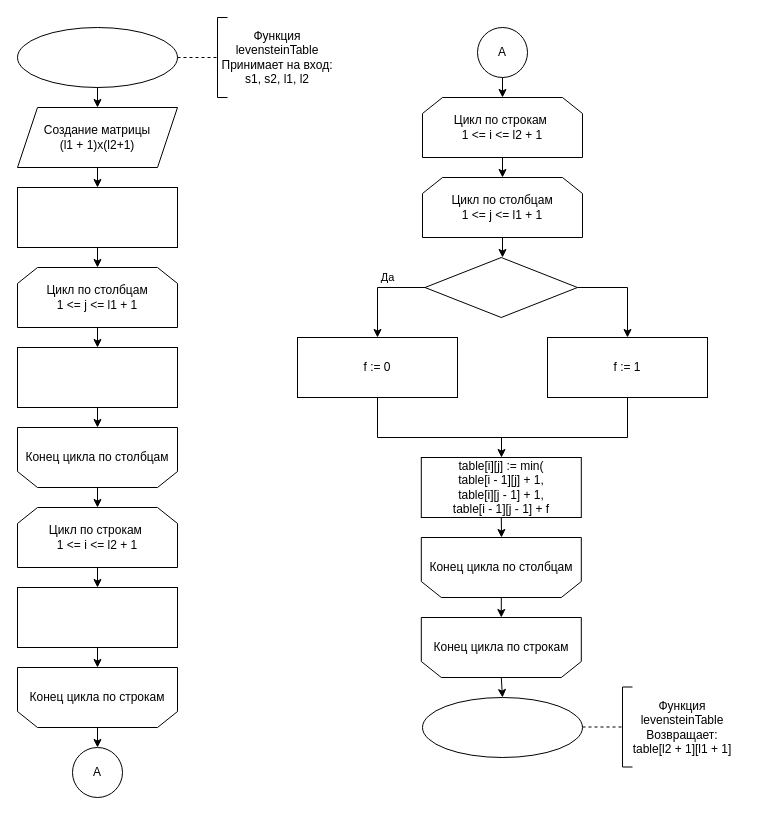
Some shapes in this 760 by 815 pixel diagram are drawn without their labels. The box of each missing label's shape, as (x1, y1, x2, y2) in pixels:
i := 1, j := 1: (16, 186, 178, 248)
s1[j - 1] = s2[i - 1]: (424, 256, 578, 318)
table[1][j] := j - 1: (16, 346, 178, 408)
table[i][1] := i - 1: (16, 586, 178, 648)
Конец levensteinTable: (422, 696, 582, 758)
Начало levensteinTable: (16, 26, 178, 88)
